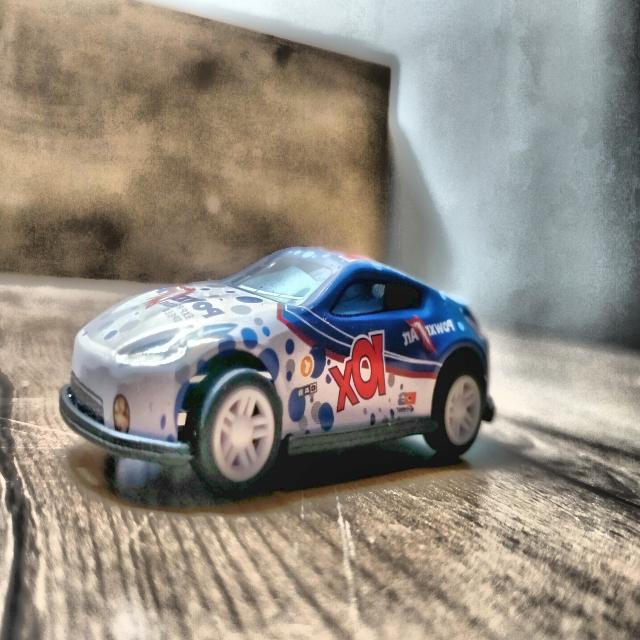Car: (61, 248, 494, 494)
